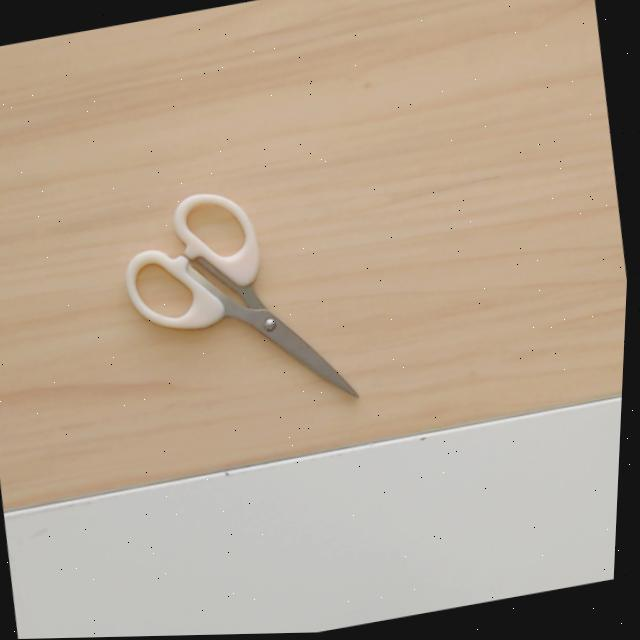Gunting: (101, 176, 360, 472)
